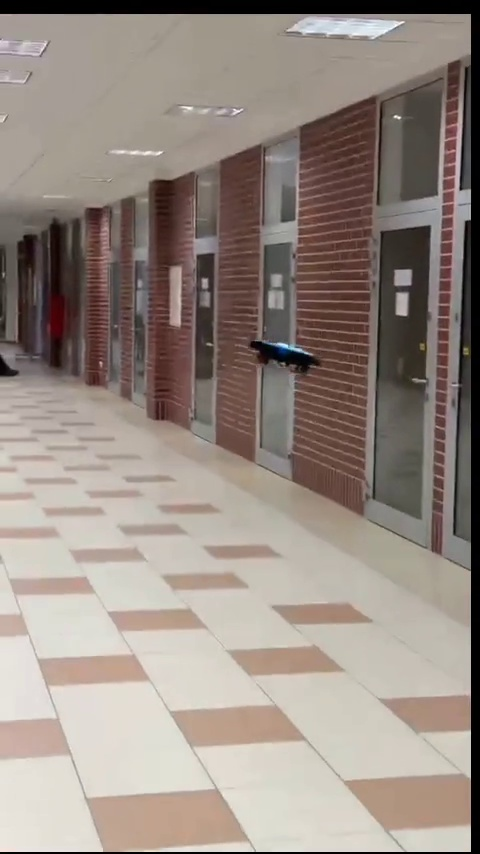drone: (248, 339, 319, 369)
